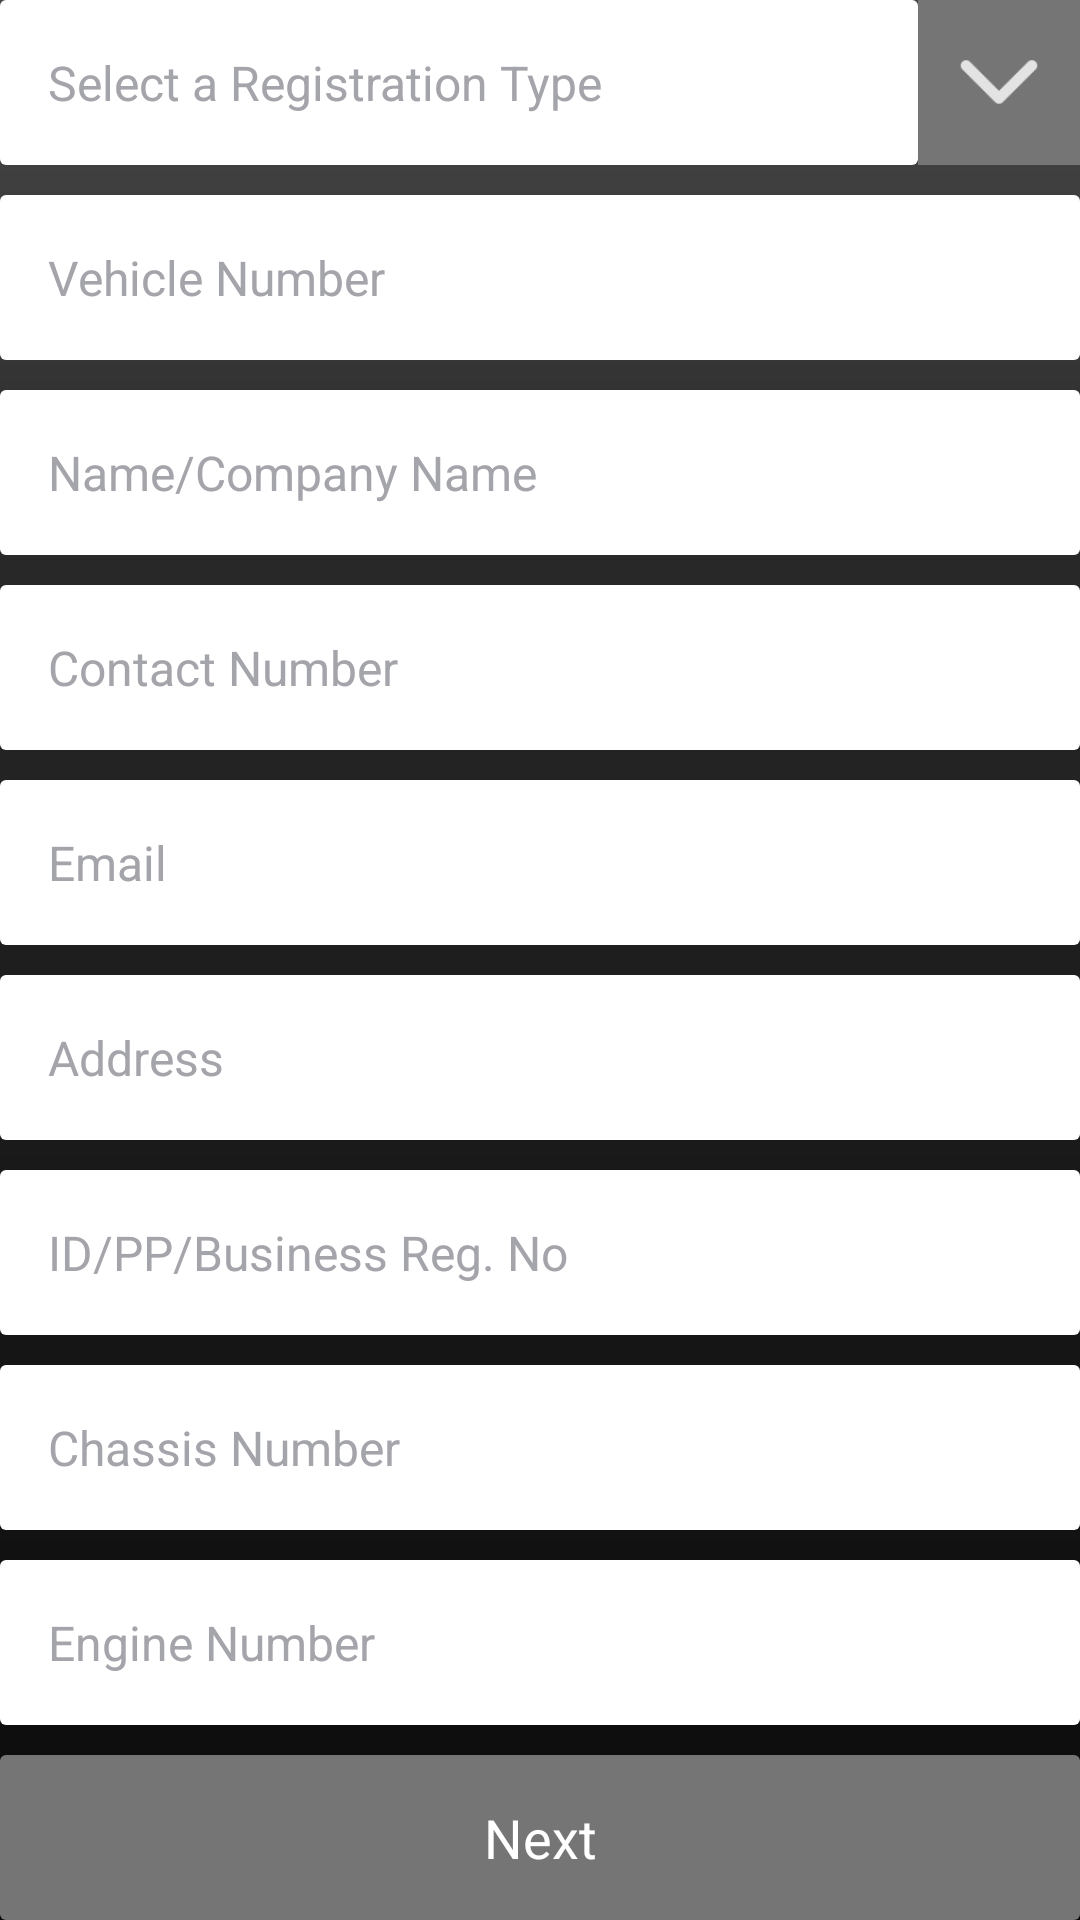

Icons on this 1080px×1920px Android screen, each with the point to tap as [x,y]:
down: [999,82]
